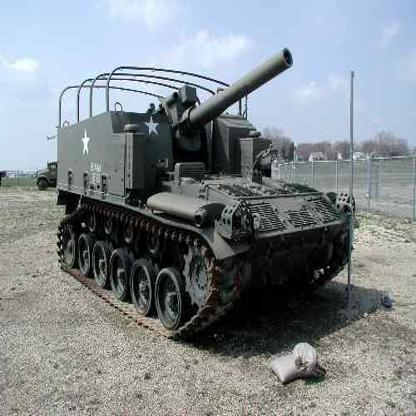Tank: (52, 49, 361, 344)
